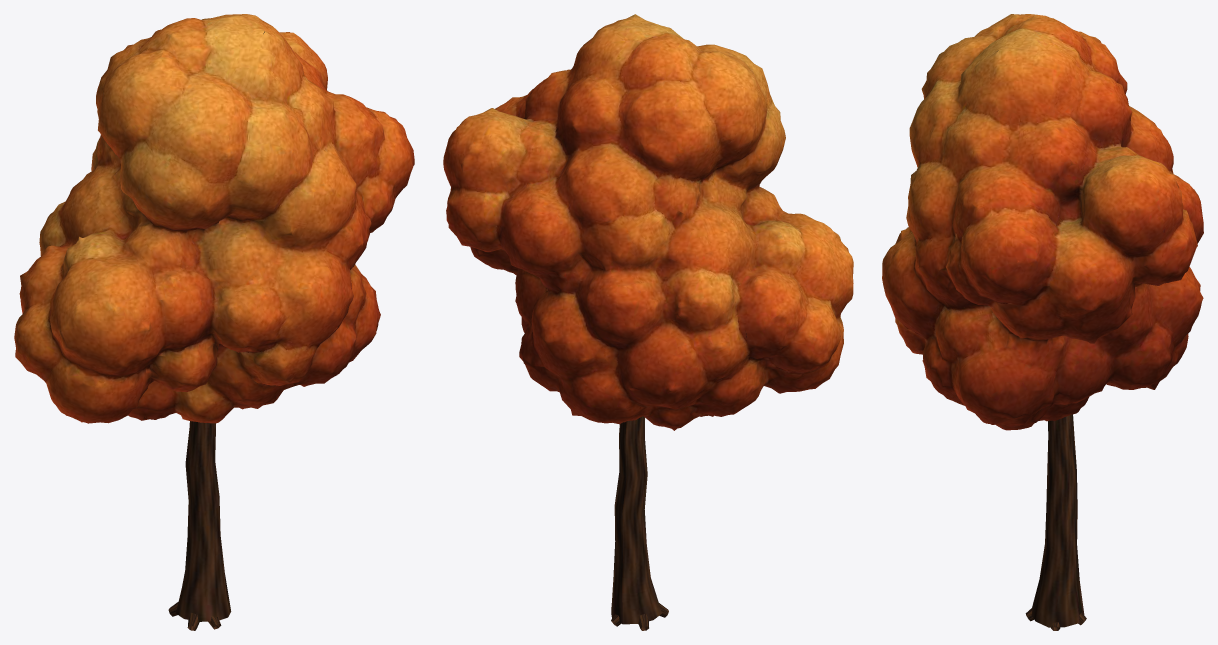
File: tree_maple_red.glb
3 renders of one model, left to right at view 1: azimuth 30°, elevation 25°; view 2: azimuth 150°, elevation 25°; view 3: azimuth 270°, elevation 25°, orthographic. The views are drawn at different scales.
Visible parts, largest first — view 1: tree_maple_red_crown0, trunk; view 2: tree_maple_red_crown0, trunk; view 3: tree_maple_red_crown0, trunk.
Part boxes in pixels (left/top/right/bottom): tree_maple_red_crown0: left=14, top=14, right=414, bottom=423; trunk: left=168, top=421, right=231, bottom=630; tree_maple_red_crown0: left=443, top=14, right=853, bottom=430; trunk: left=611, top=416, right=668, bottom=630; tree_maple_red_crown0: left=882, top=14, right=1203, bottom=430; trunk: left=1025, top=414, right=1086, bottom=630.
Size of the model in its own units: 2.71 by 4.18 by 2.07.
Materials: 2 (2 with a texture image).
